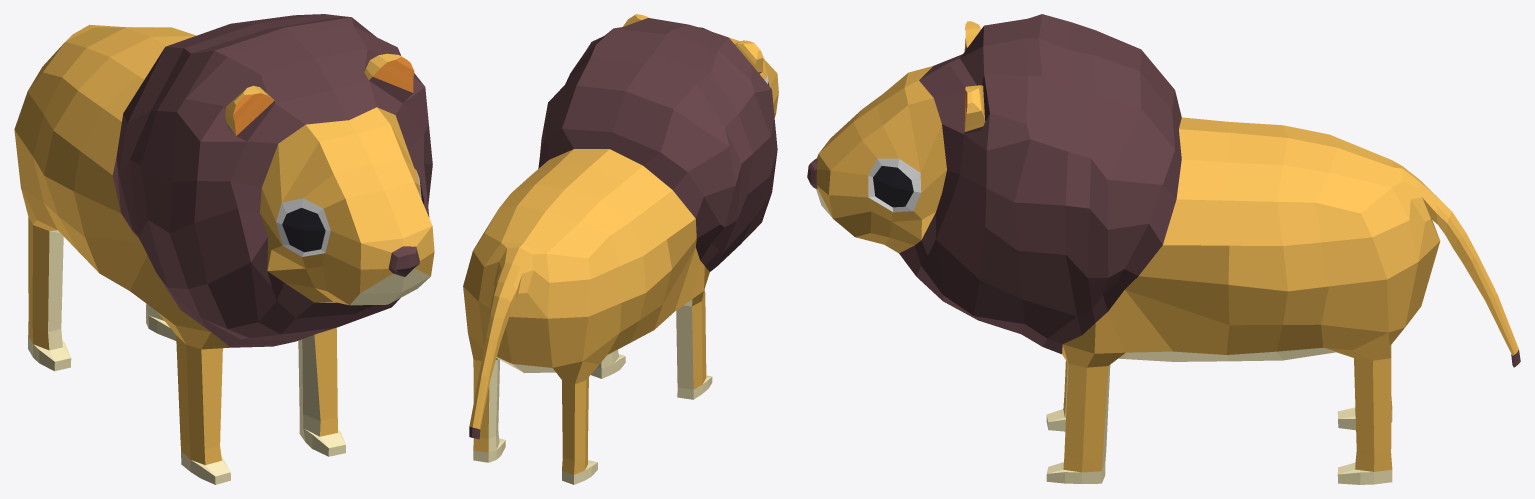
Rendered from lion2.glb.
The picture shows the model from 3 angles, left to right: view 1: azimuth 30°, elevation 25°; view 2: azimuth 150°, elevation 25°; view 3: azimuth 270°, elevation 25°; orthographic projection. The views are drawn at different scales.
Parts seen in each view (by area): view 1: Cube; view 2: Cube; view 3: Cube.
Part boxes in pixels (box(x1,y1,x2,y2)): Cube: box(14, 14, 434, 484); Cube: box(463, 14, 778, 484); Cube: box(807, 14, 1520, 484).
Bounding box in the file's own units: 1.13 × 1.85 × 2.89.
